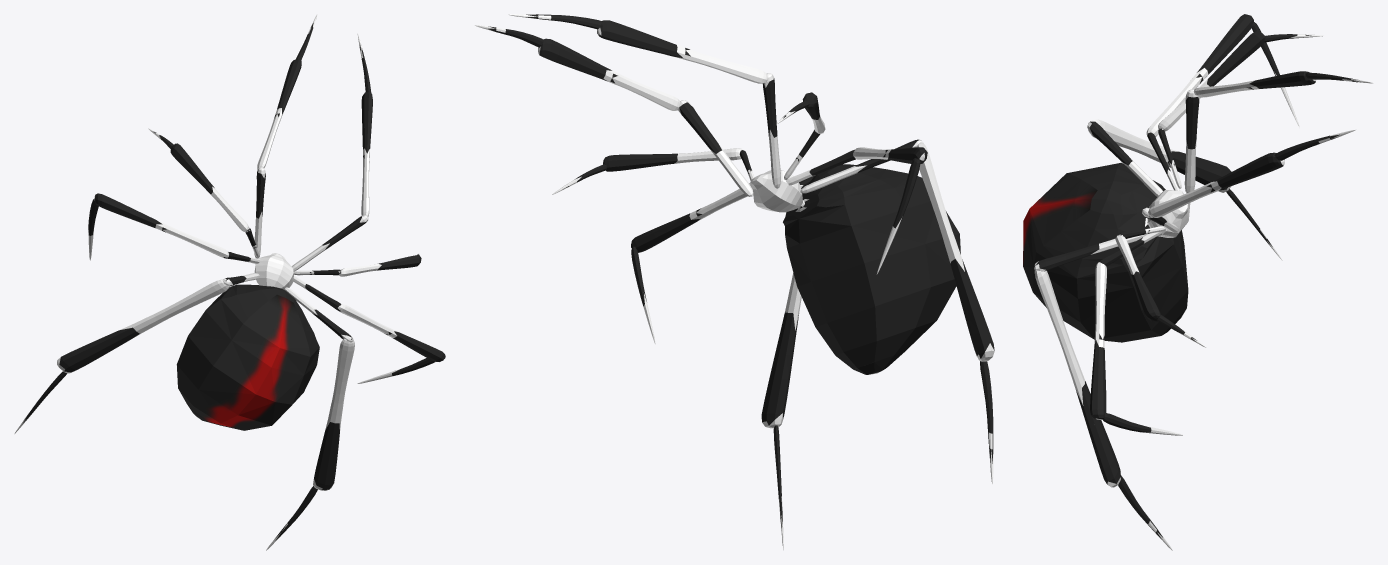
3 renders of one model, left to right at view 1: azimuth 30°, elevation 25°; view 2: azimuth 150°, elevation 25°; view 3: azimuth 270°, elevation 25°, orthographic. The views are drawn at different scales.
Visible parts, largest first — view 1: Shell9 (×3), Shell17 (×2), Shell7 (×2), Shell20 (×2), Shell4 (×2), Shell21, Shell11, Shell23; view 2: Shell9 (×2), Shell17 (×2), Shell23 (×2), Shell11 (×2), Shell7, Shell1, Shell4, Shell10, Shell18; view 3: Shell9 (×3), Shell7 (×2), Shell4 (×2), Shell17 (×2), Shell11 (×2), Shell20 (×2), Shell23 (×2), Shell25 (×2), Shell21, Shell8, Shell1, Shell16 (+3 smaller).
Boxes of the visible parts, x1=… form: Shell9 (×3): x1=176, y1=253, x2=319, y2=430; Shell17 (×2): x1=59, y1=279, x2=230, y2=372; Shell7 (×2): x1=314, y1=338, x2=354, y2=490; Shell20 (×2): x1=94, y1=193, x2=228, y2=257; Shell4 (×2): x1=337, y1=304, x2=445, y2=361; Shell21: x1=170, y1=143, x2=214, y2=194; Shell11: x1=361, y1=91, x2=372, y2=153; Shell23: x1=277, y1=59, x2=301, y2=113; Shell9 (×2): x1=750, y1=164, x2=960, y2=374; Shell17 (×2): x1=917, y1=142, x2=994, y2=358; Shell23 (×2): x1=597, y1=20, x2=767, y2=83; Shell11 (×2): x1=539, y1=38, x2=680, y2=110; Shell7: x1=761, y1=312, x2=798, y2=425; Shell1: x1=603, y1=153, x2=677, y2=171; Shell4: x1=631, y1=213, x2=700, y2=252; Shell10: x1=679, y1=102, x2=721, y2=153; Shell18: x1=980, y1=361, x2=993, y2=463; Shell9 (×3): x1=1023, y1=162, x2=1190, y2=342; Shell7 (×2): x1=1034, y1=270, x2=1120, y2=484; Shell4 (×2): x1=1090, y1=262, x2=1106, y2=419; Shell17 (×2): x1=1088, y1=119, x2=1231, y2=190; Shell11 (×2): x1=1148, y1=152, x2=1284, y2=217; Shell20 (×2): x1=1146, y1=14, x2=1253, y2=136; Shell23 (×2): x1=1193, y1=71, x2=1315, y2=97; Shell25 (×2): x1=1184, y1=96, x2=1199, y2=193; Shell21: x1=1207, y1=31, x2=1265, y2=86; Shell8: x1=1035, y1=244, x2=1099, y2=271; Shell1: x1=1131, y1=271, x2=1160, y2=321; Shell16: x1=1089, y1=121, x2=1132, y2=165.
Size of the model in its own units: 35.58 by 23.48 by 40.43.
Materials: 3 (2 with a texture image).
